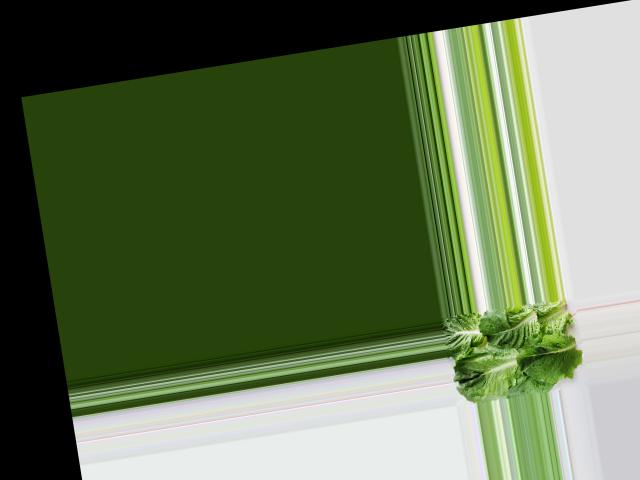lettuce: (444, 296, 583, 403)
